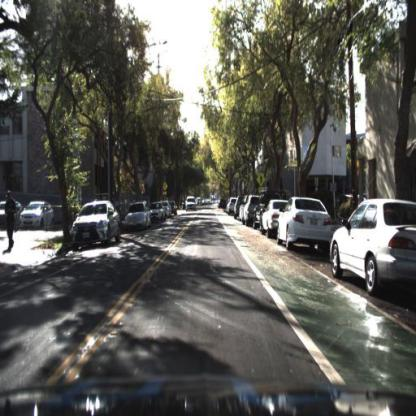car: (328, 200, 416, 291), (275, 198, 330, 248), (72, 200, 121, 244), (19, 202, 56, 233), (124, 203, 153, 235), (186, 198, 197, 213)
pedestrian: (5, 190, 16, 254)
